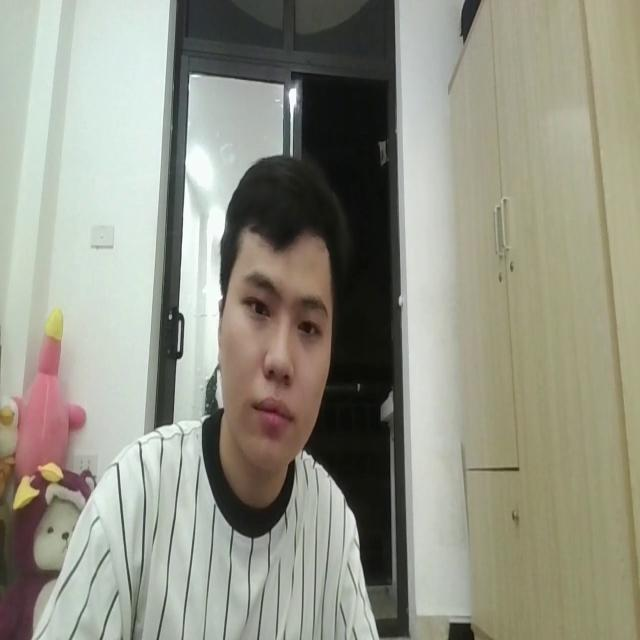student: (31, 150, 386, 640)
